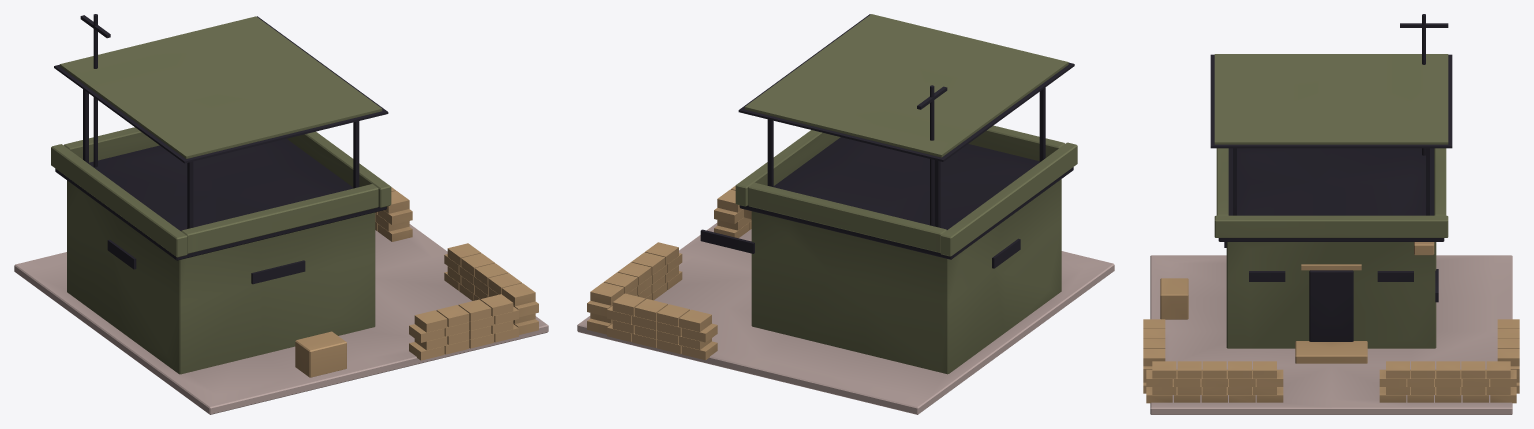
File: bld.cure-guard-post.glb
3 renders of one model, left to right at view 1: azimuth 30°, elevation 25°; view 2: azimuth 150°, elevation 25°; view 3: azimuth 270°, elevation 25°, orthographic. The views are drawn at different scales.
Parts seen in each view (by area): view 1: body; view 2: body; view 3: body.
Part boxes in pixels (left/top/right/bottom): body: left=14, top=14, right=548, bottom=414; body: left=577, top=14, right=1114, bottom=414; body: left=1143, top=14, right=1519, bottom=414.
Bounding box in the file's own units: 9 × 7.2 × 9.35.
